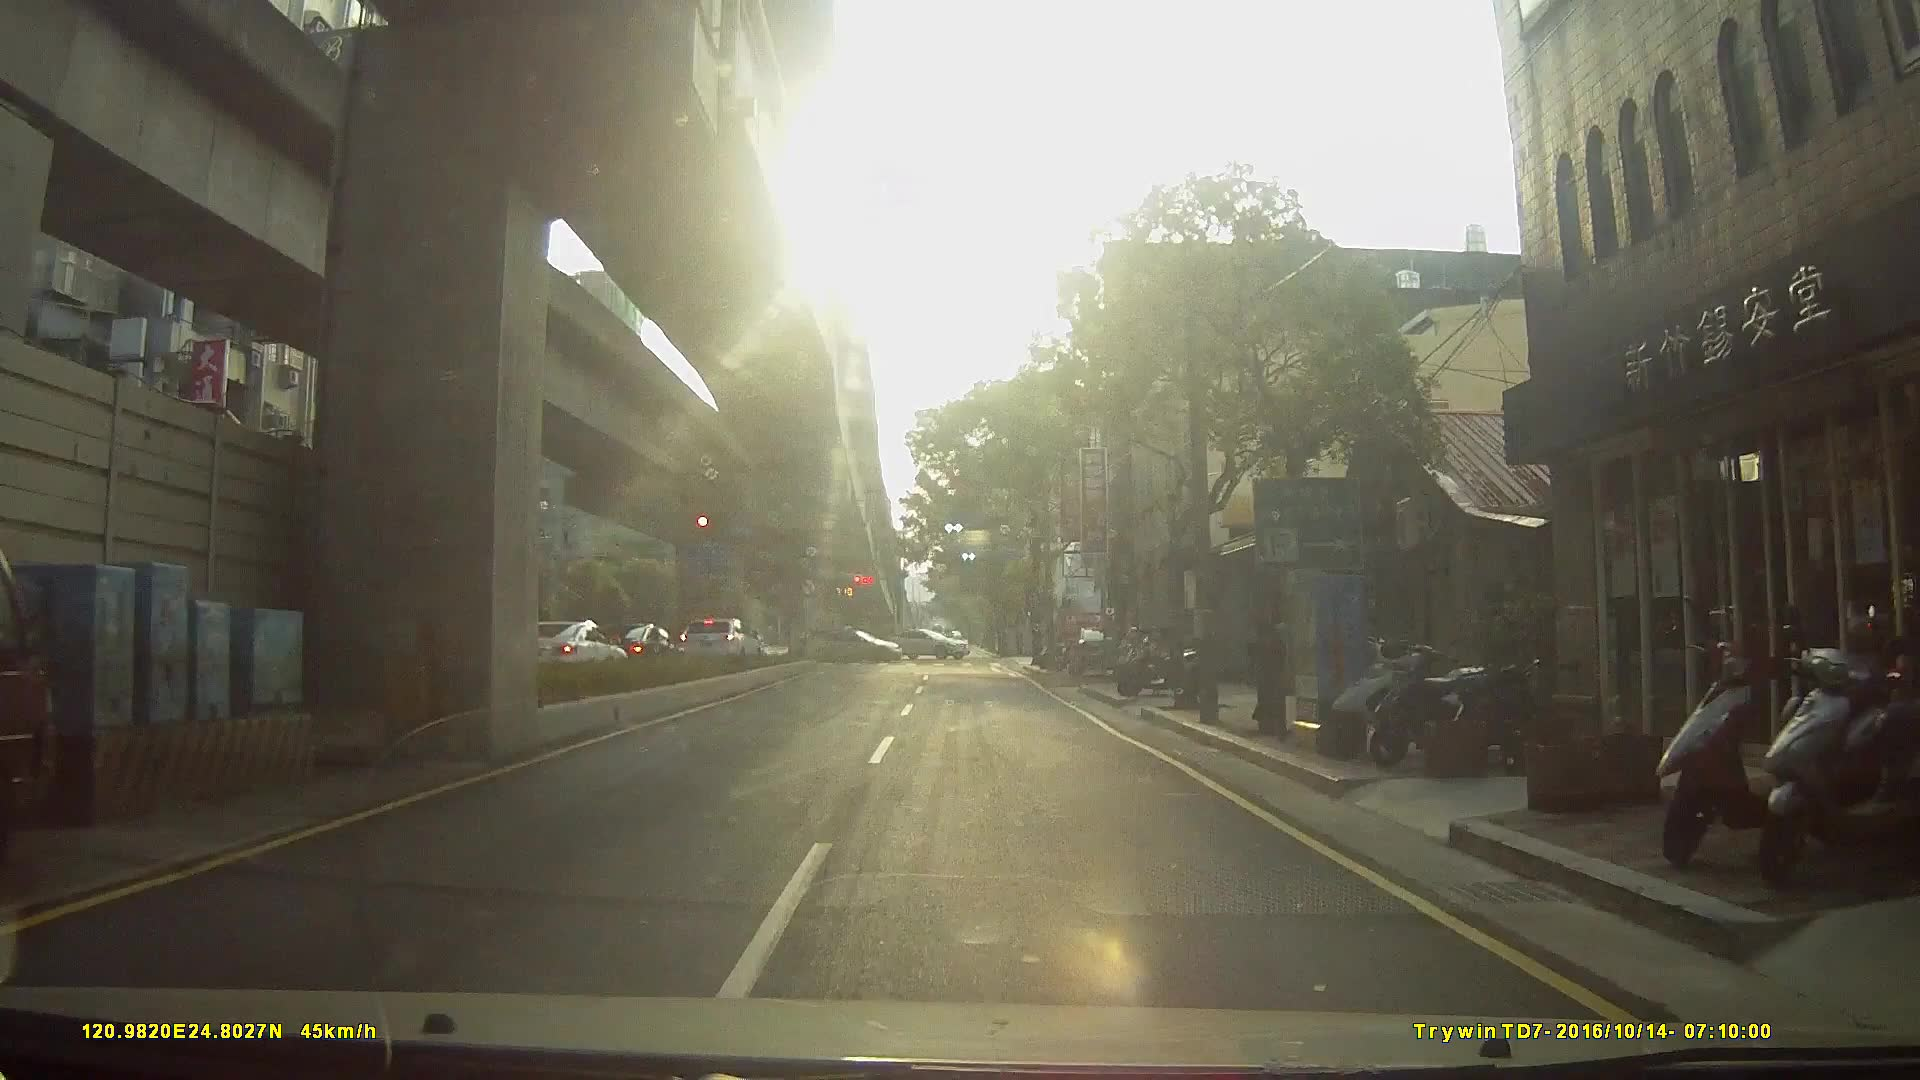vehicle: (502, 617, 622, 683), (589, 621, 684, 674), (673, 616, 762, 665), (804, 626, 905, 665), (1065, 622, 1124, 675), (885, 626, 972, 659)
